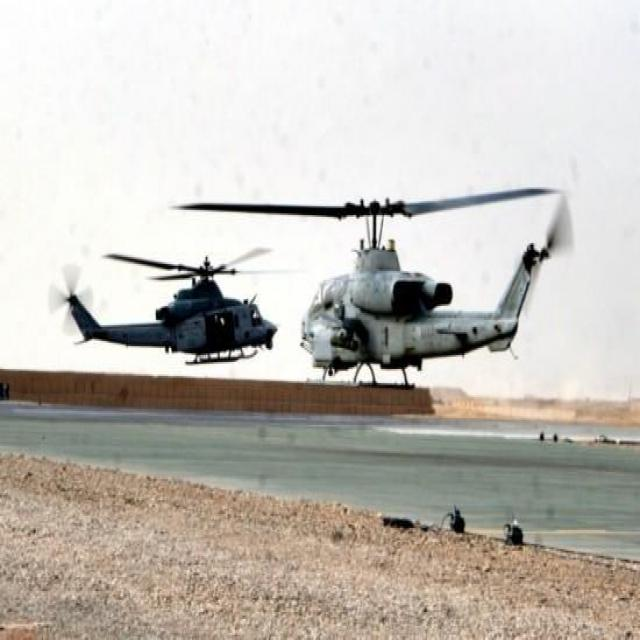MIL_HELO: (177, 180, 578, 382), (50, 238, 288, 375)
